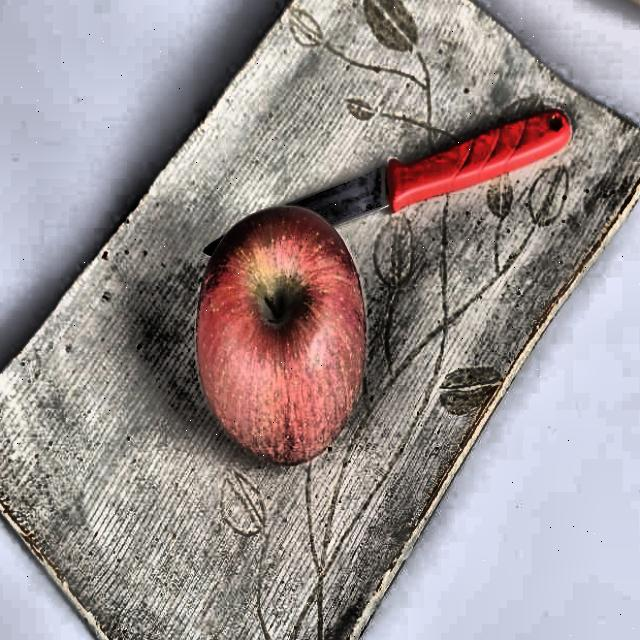knife: (194, 96, 575, 257)
